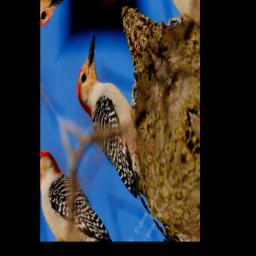Woodpecker: (62, 31, 178, 219)
